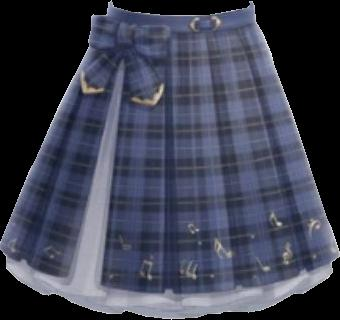Hemline: (0, 59, 339, 293), (5, 266, 332, 319)
Waistline: (102, 17, 257, 34), (108, 0, 253, 16)
